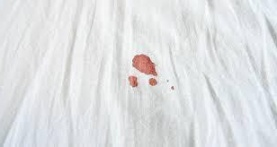blood: (130, 56, 158, 88)
